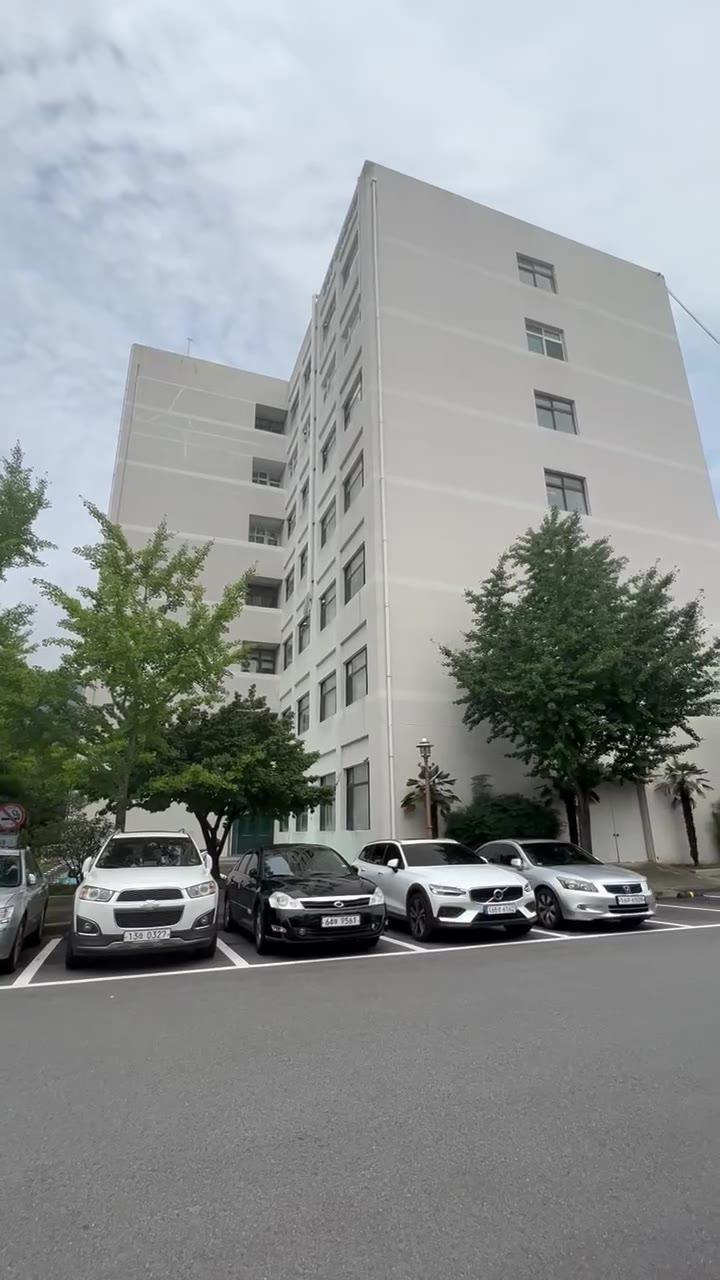building: (74, 136, 688, 534)
